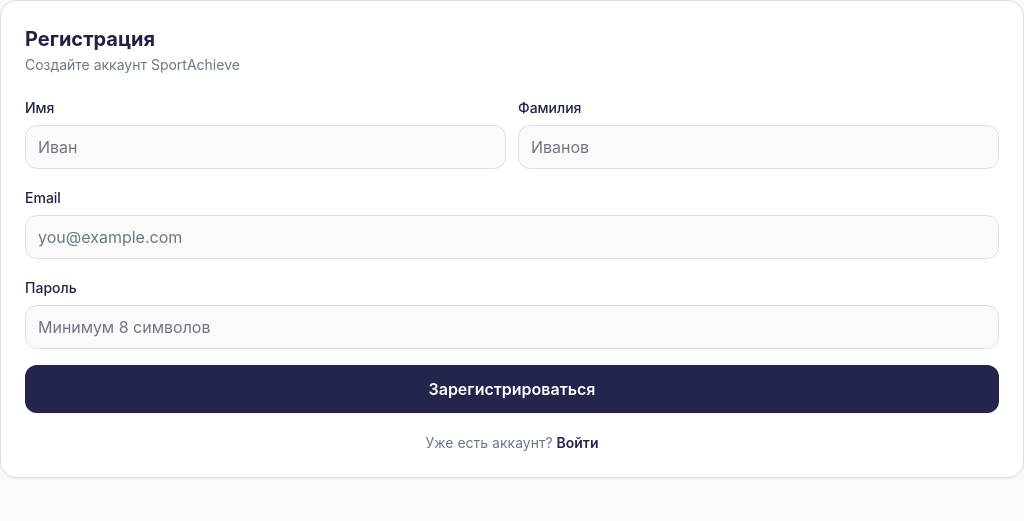
Test: RegisterForm › shows validation toast when password is too short
In the field labelled "Email": point(512, 237) [25,215,999,259], type "new@example.com"
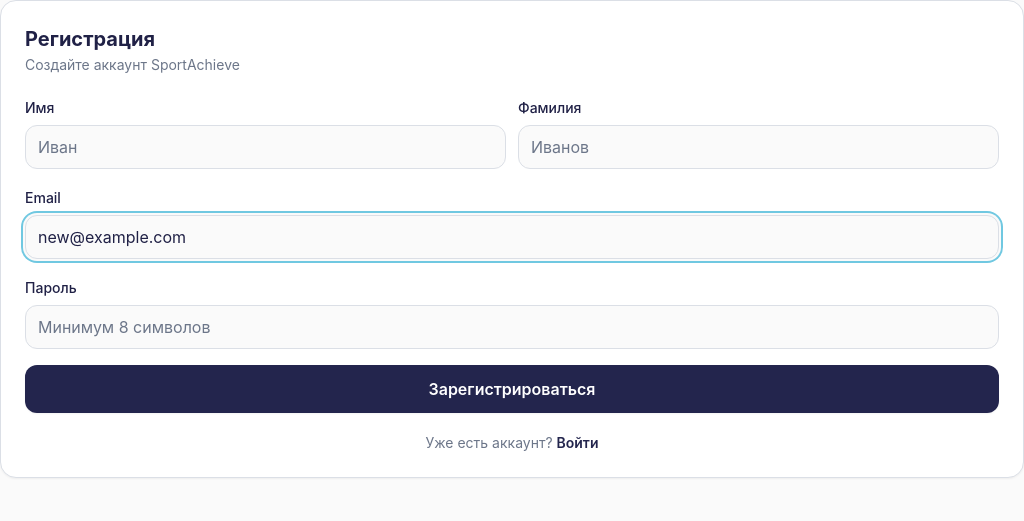
In the password field labelled "Пароль": point(512, 327) [25,305,999,349], type "short"
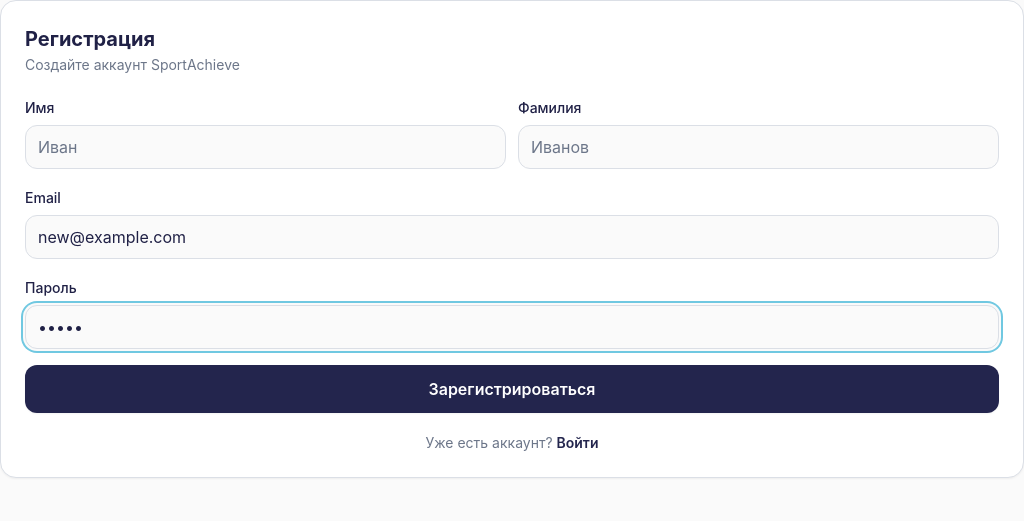
Click the button "Зарегистрироваться": point(512, 389) [25,365,999,413]
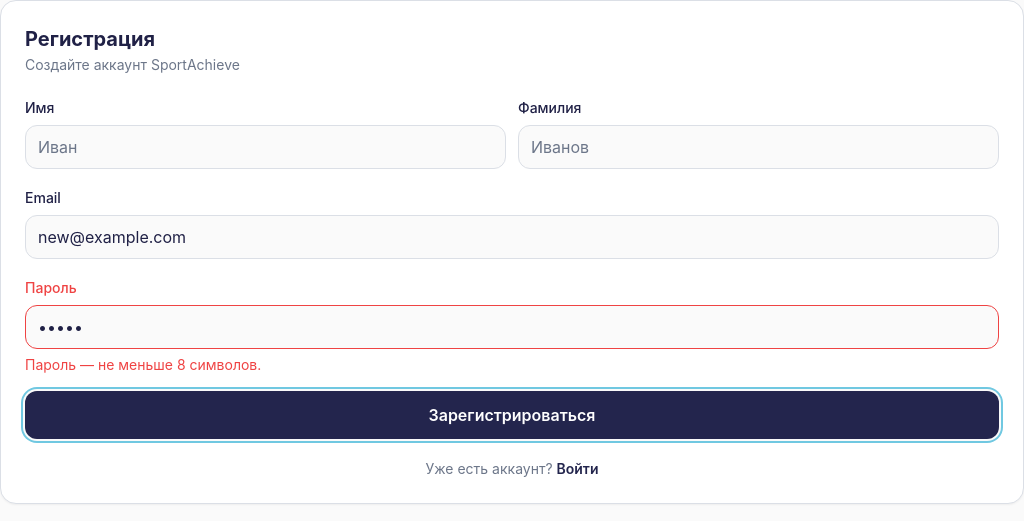
Check: the message shows "8 символов", box [25,356,261,373]
